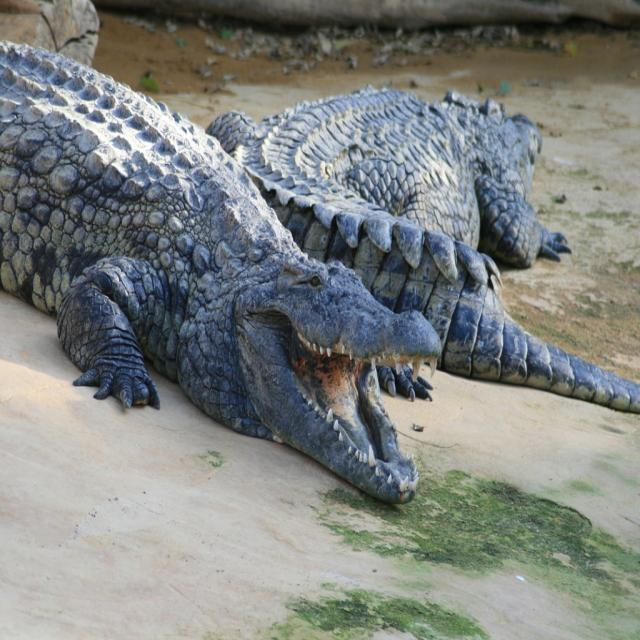crocodile: (1, 35, 638, 504)
